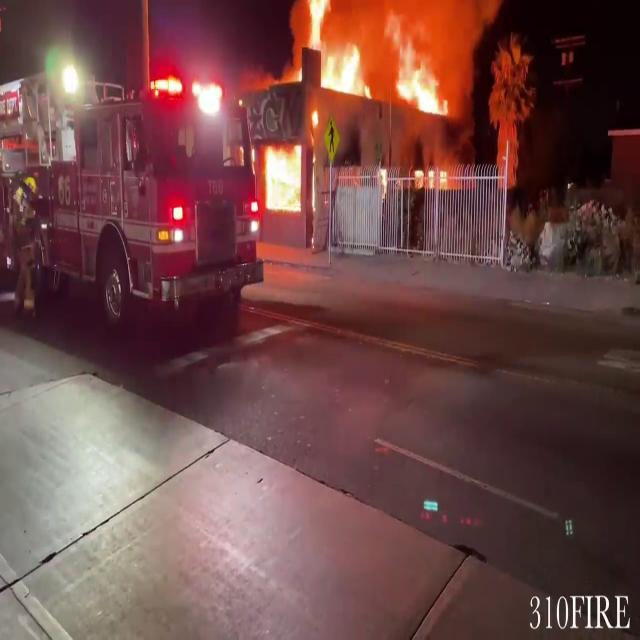Fire: (377, 1, 453, 120), (296, 0, 368, 104), (256, 138, 306, 218)
